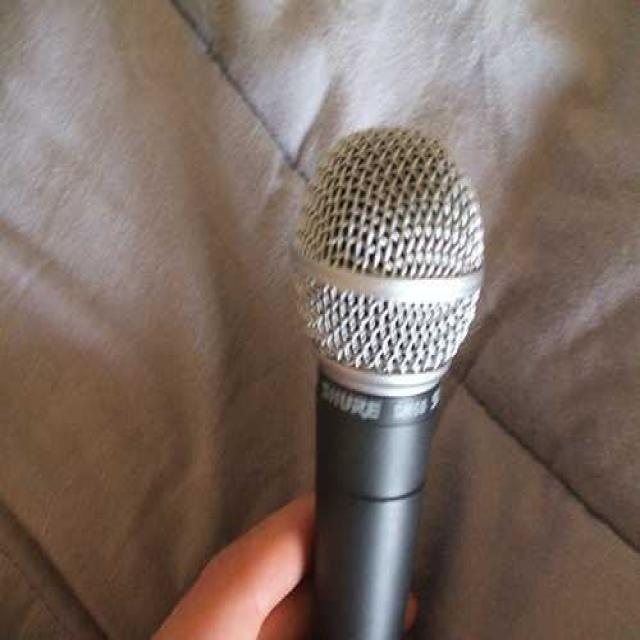microphone: (292, 116, 493, 622)
